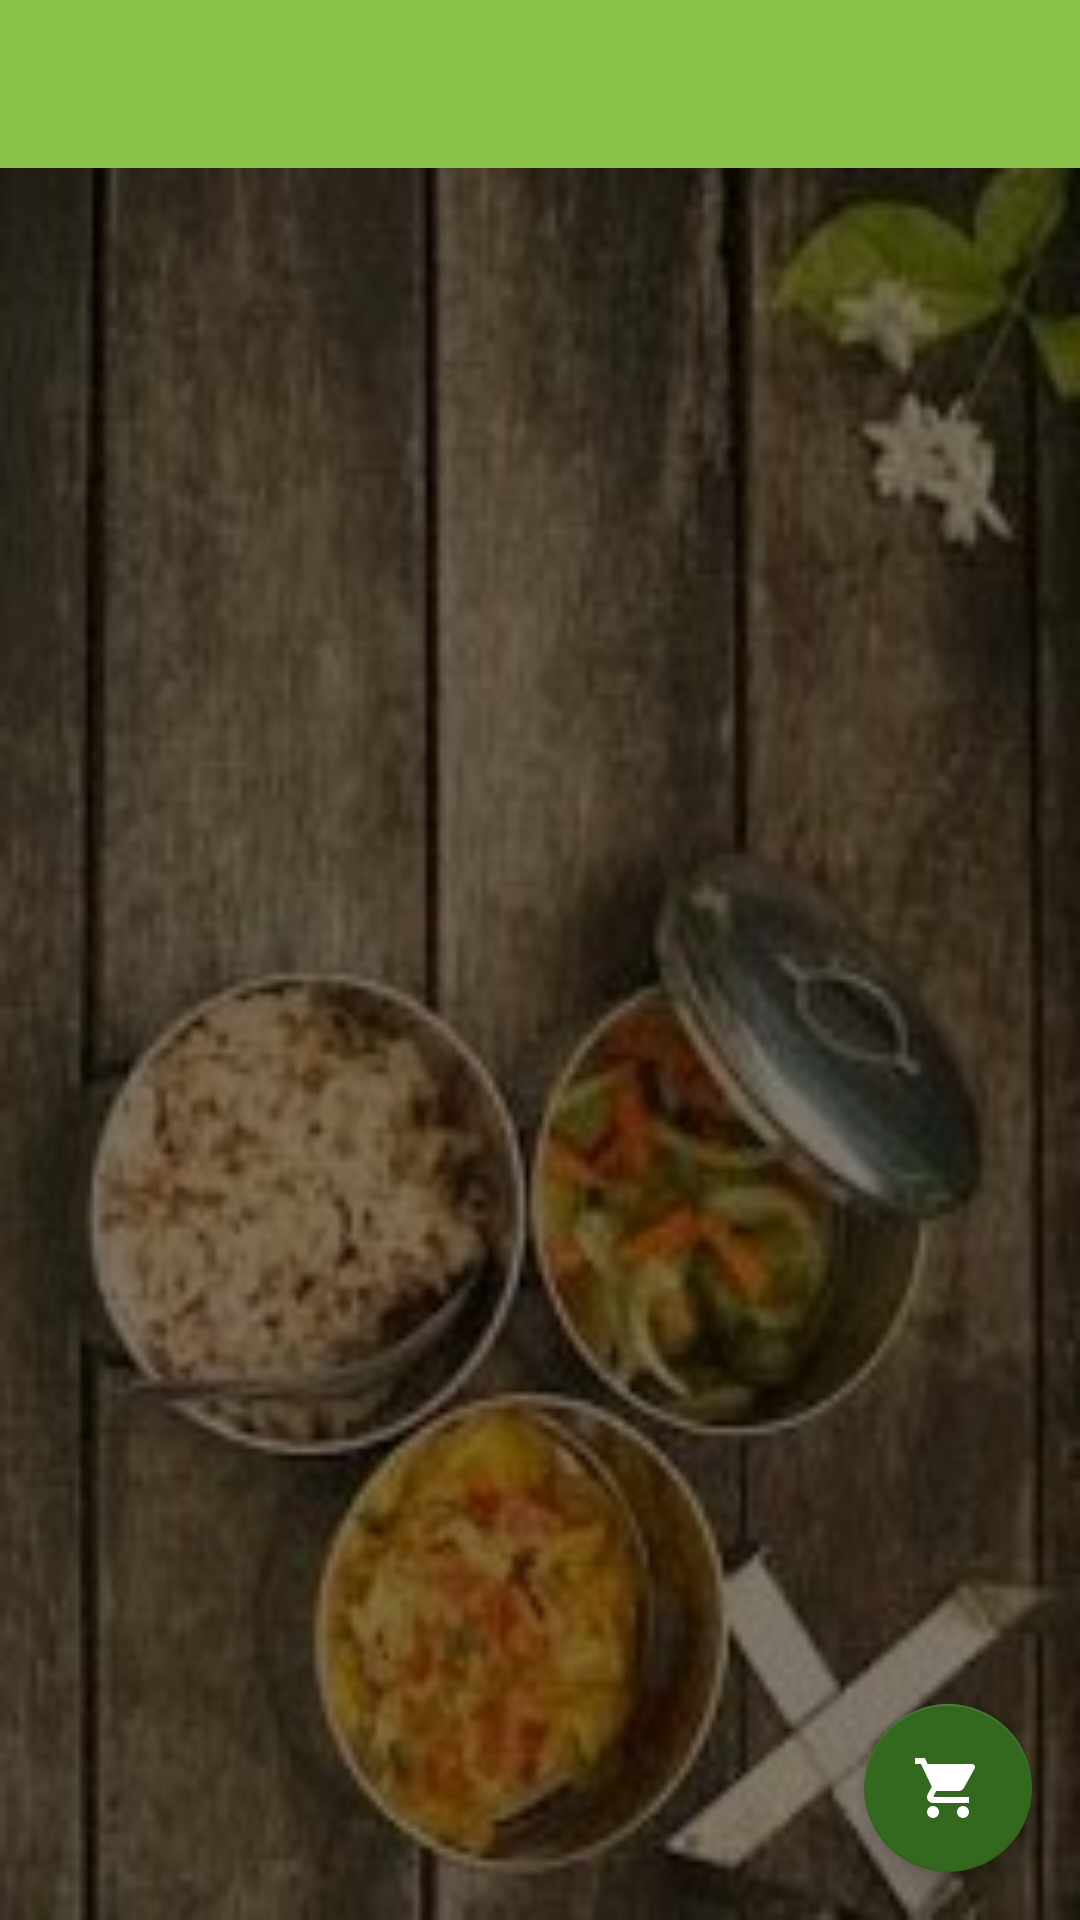

Icons on this 1080px×1920px Android screen, each with its box as (x1, y1, x2, y2):
cart: (864, 1704, 1032, 1872)
